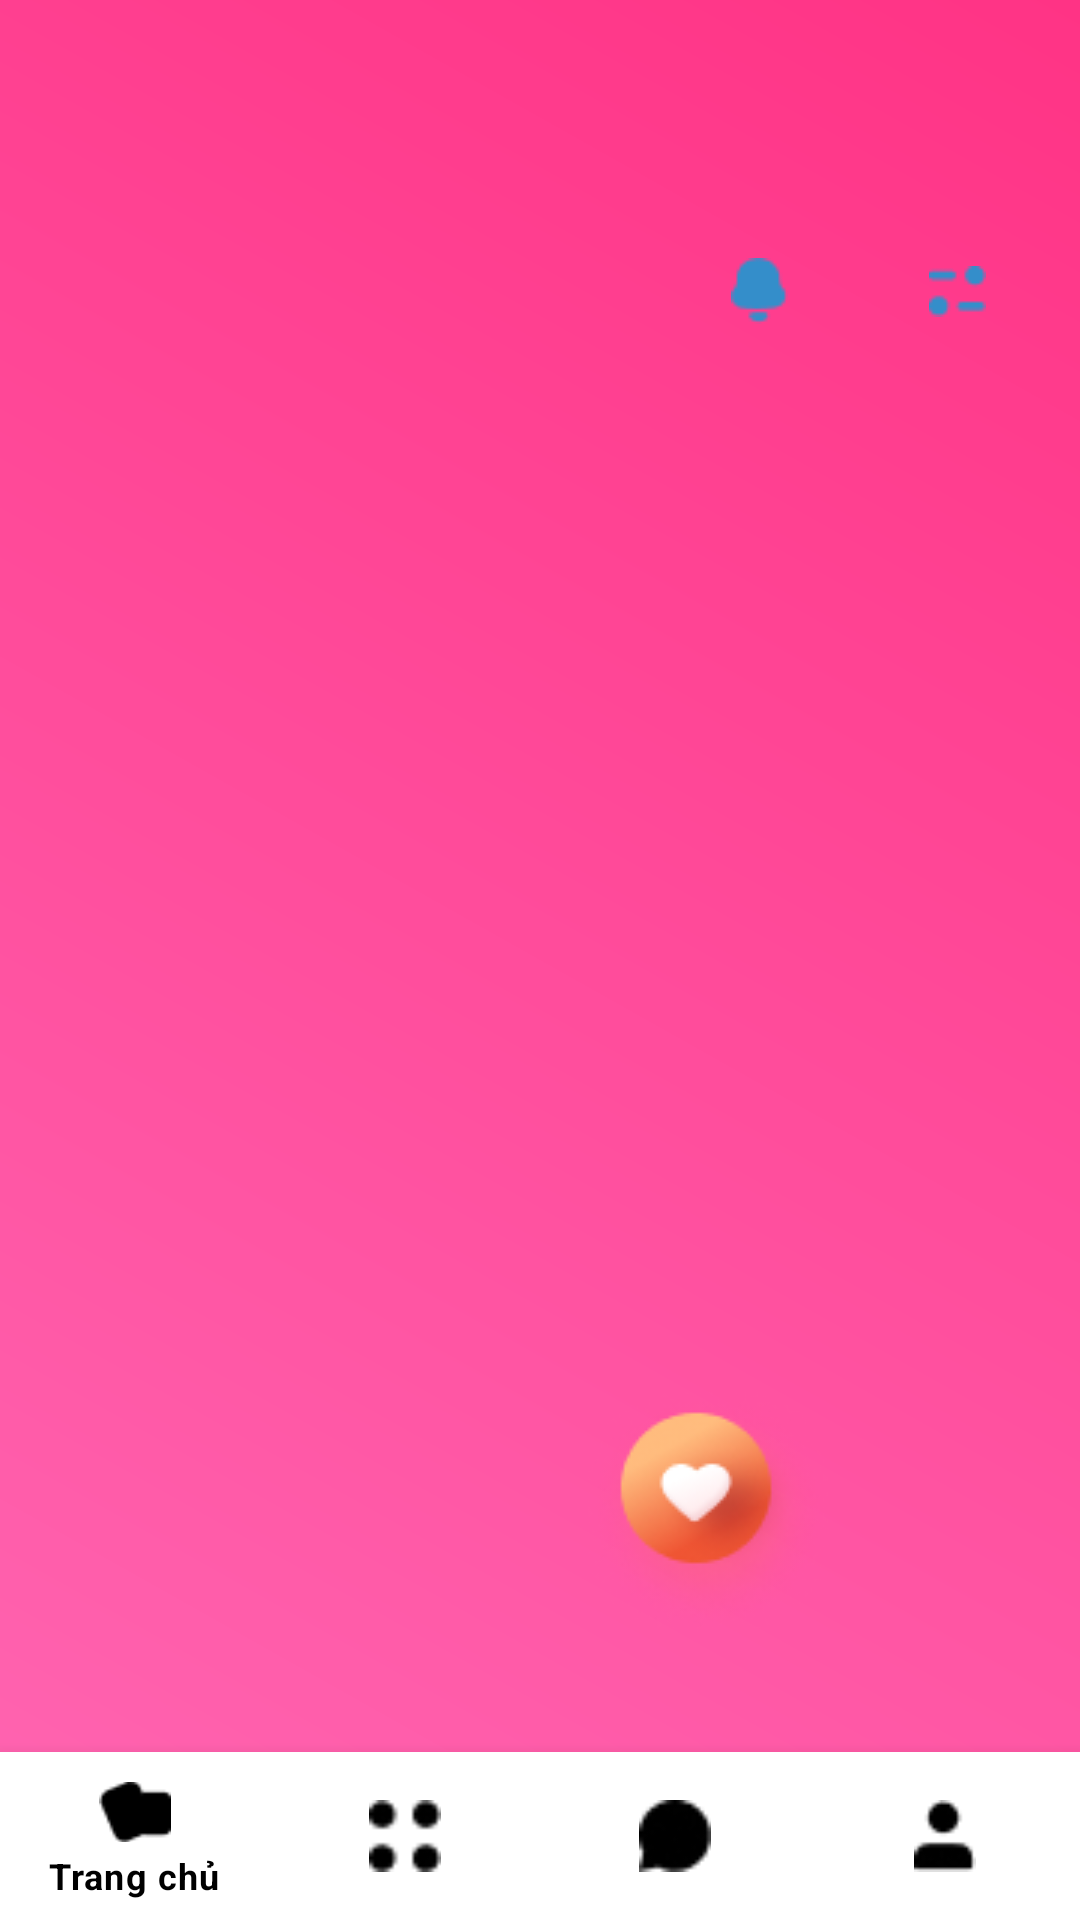

Screen size 1080x1920. Icon name, then its center in pixels as (x=x, y=y):
Cài đặt: (x=957, y=291)
love: (x=696, y=1488)
Thông báo: (x=759, y=291)
